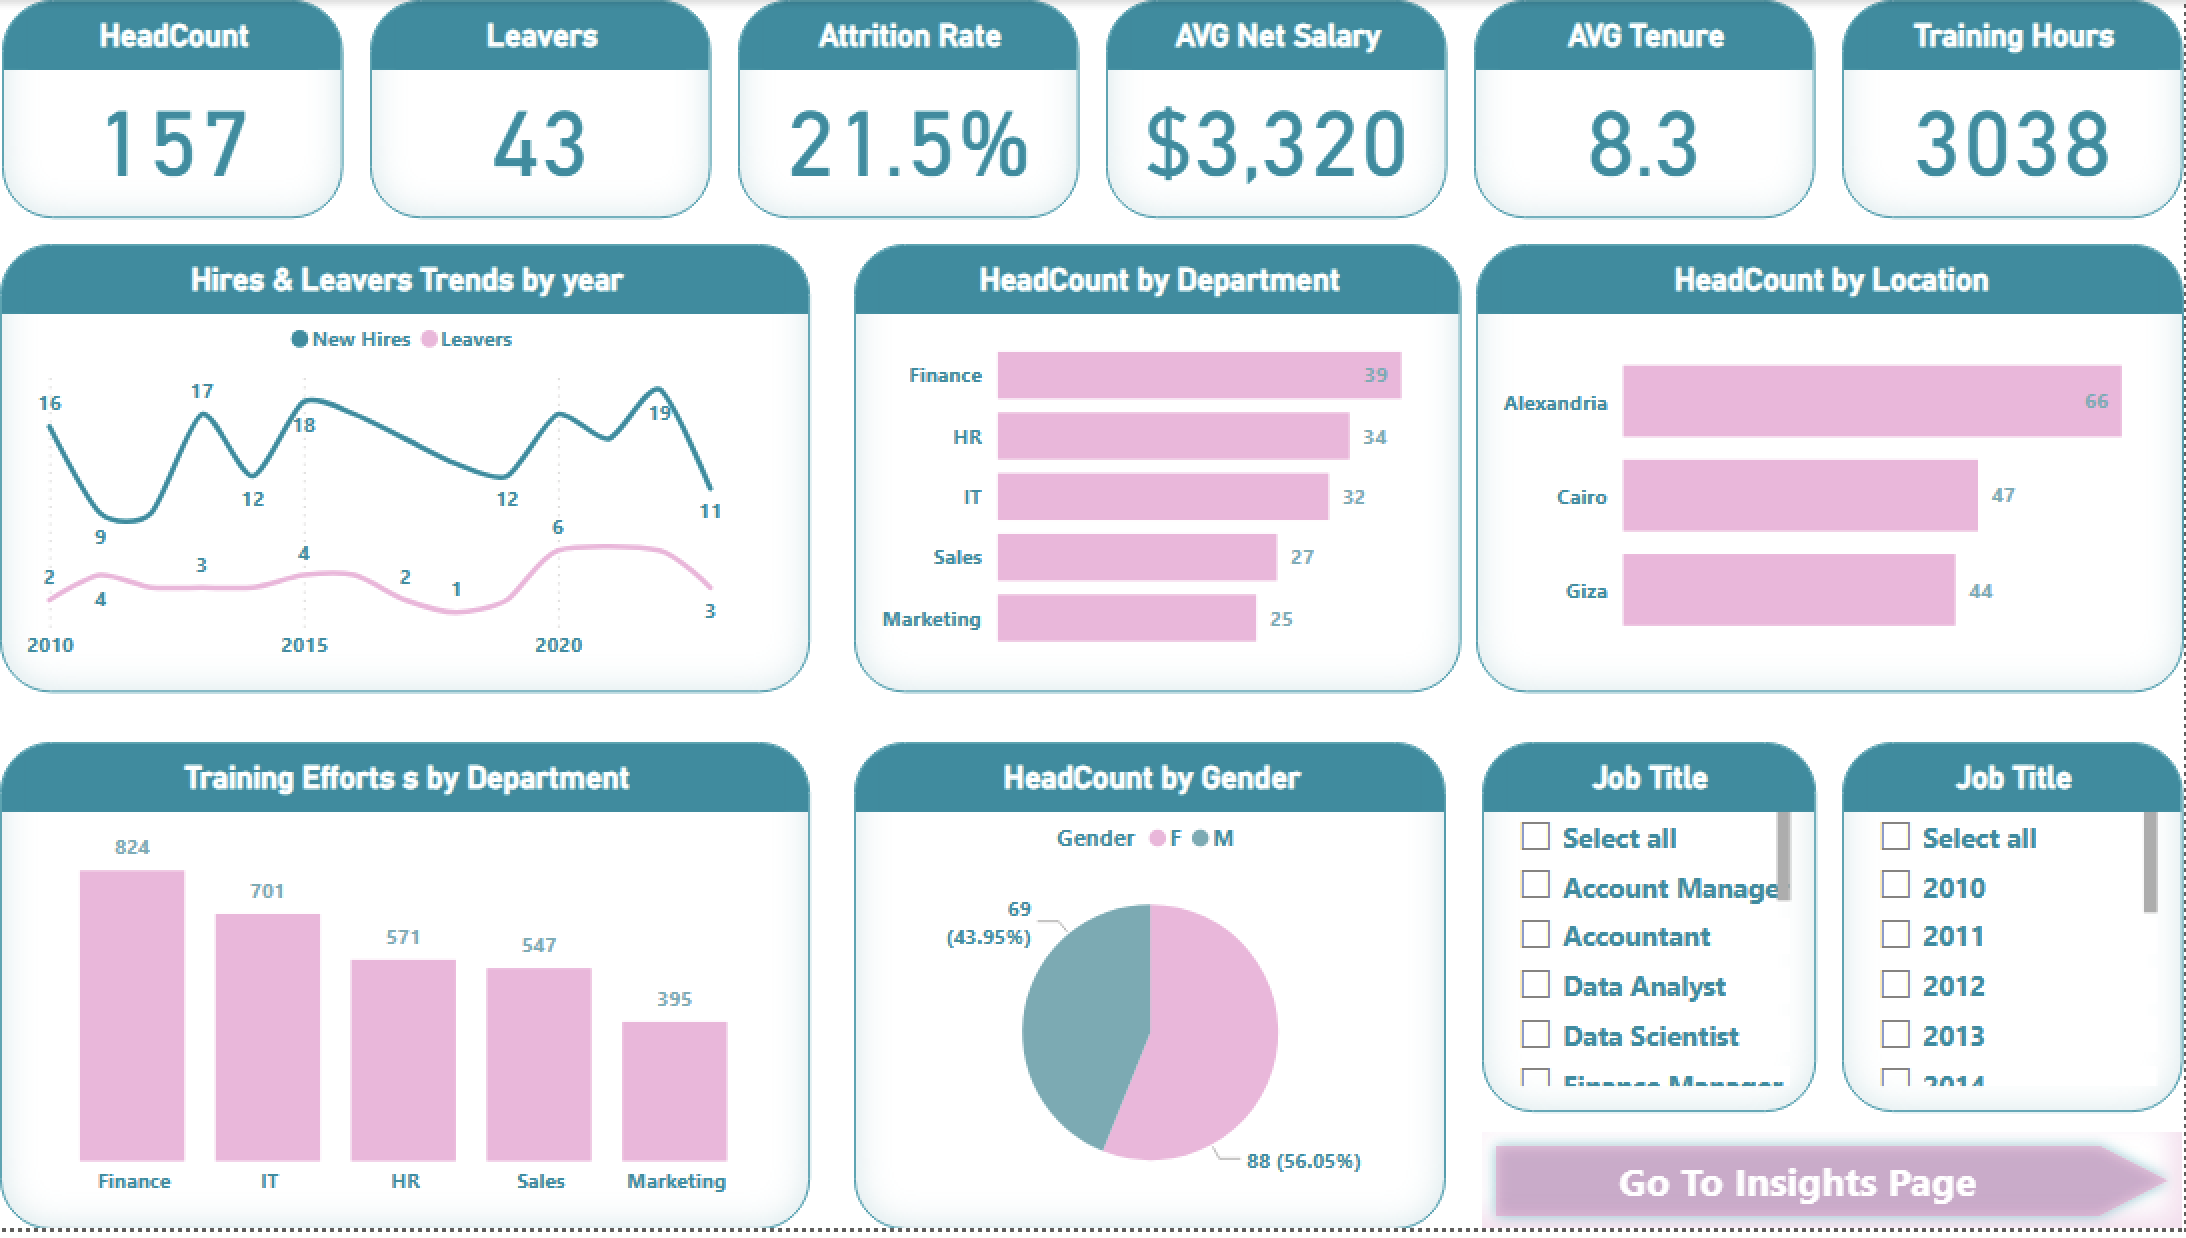

The page's visual inventory and layout, read from the dashboard file:
{"tool":"powerbi","page":{"name":"Overview","canvas":[1280,720],"ordinal":0},"visuals":[{"type":"card","title":"HeadCount","fields":{"Values":["Employees.HeadCount"]},"box":[1.3,0,200,127.7],"z":0},{"type":"card","title":"Leavers","fields":{"Values":["Employees.Terminated Employees"]},"box":[217.2,0,199.9,127.7],"z":1000},{"type":"card","title":"Attrition Rate","fields":{"Values":["Employees.Attrition Rate"]},"box":[432.9,0,199.9,127.7],"z":2000},{"type":"card","title":"AVG Net Salary","fields":{"Values":["Employees.AVG Net Salary"]},"box":[648.6,0,199.9,127.7],"z":3000},{"type":"card","title":"AVG Tenure","fields":{"Values":["Employees.AVG Tenure"]},"box":[864.4,0,199.9,127.7],"z":4000},{"type":"card","title":"Training Hours","fields":{"Values":["Employees.Training Hours"]},"box":[1080.1,0,199.9,127.7],"z":5000},{"type":"lineChart","title":" Hires & Leavers Trends by year","fields":{"Category":["Employees.Hire year"],"Y":["Employees.New Hires","Employees.Leavers"]},"box":[0,142.9,475.3,263.2],"z":6000},{"type":"barChart","fields":{"Y":["Employees.HeadCount"],"Category":["Employees.Department"]},"box":[500.9,142.9,356.5,263.2],"z":7000},{"type":"pieChart","fields":{"Category":["Employees.Gender"],"Y":["Employees.HeadCount"]},"box":[500.9,434.7,347.5,285.8],"z":8000},{"type":"barChart","fields":{"Category":["Employees.Location"],"Y":["Employees.HeadCount"]},"box":[864.9,142.9,415.1,263.2],"z":9000},{"type":"clusteredColumnChart","title":"Training Efforts s by Department","fields":{"Category":["Employees.Department"],"Y":["Sum(Employees.TrainingHours)"]},"box":[0,434.7,475.3,285.8],"z":10000},{"type":"slicer","title":"Job Title","fields":{"Values":["Employees.JobTitle"]},"box":[869.4,434.7,195.5,216.6],"z":11000},{"type":"slicer","title":"Job Title","fields":{"Values":["Employees.Hire year"]},"box":[1080,434.7,200,216.6],"z":12000},{"type":"actionButton","title":"Go To Insights Page","box":[869.4,663.3,410.6,57.2],"z":13000}]}

Visuals, with their boxes in screenshot pixels (x1, y1, x2, y2), scaled from the page's 1280x720 canvas onto the 2186x1238 screenshot:
"HeadCount" card: pyautogui.locateOnScreen(2, 0, 344, 220)
"Leavers" card: pyautogui.locateOnScreen(371, 0, 712, 220)
"Attrition Rate" card: pyautogui.locateOnScreen(739, 0, 1081, 220)
"AVG Net Salary" card: pyautogui.locateOnScreen(1108, 0, 1449, 220)
"AVG Tenure" card: pyautogui.locateOnScreen(1476, 0, 1818, 220)
"Training Hours" card: pyautogui.locateOnScreen(1845, 0, 2185, 220)
" Hires & Leavers Trends by year" lineChart: pyautogui.locateOnScreen(0, 246, 812, 698)
barChart - Employees.HeadCount x Employees.Department: pyautogui.locateOnScreen(855, 246, 1464, 698)
pieChart - Employees.Gender x Employees.HeadCount: pyautogui.locateOnScreen(855, 747, 1449, 1237)
barChart - Employees.Location x Employees.HeadCount: pyautogui.locateOnScreen(1477, 246, 2185, 698)
"Training Efforts s by Department" clusteredColumnChart: pyautogui.locateOnScreen(0, 747, 812, 1237)
"Job Title" slicer: pyautogui.locateOnScreen(1485, 747, 1819, 1120)
"Job Title" slicer: pyautogui.locateOnScreen(1844, 747, 2185, 1120)
"Go To Insights Page" actionButton: pyautogui.locateOnScreen(1485, 1141, 2185, 1237)
